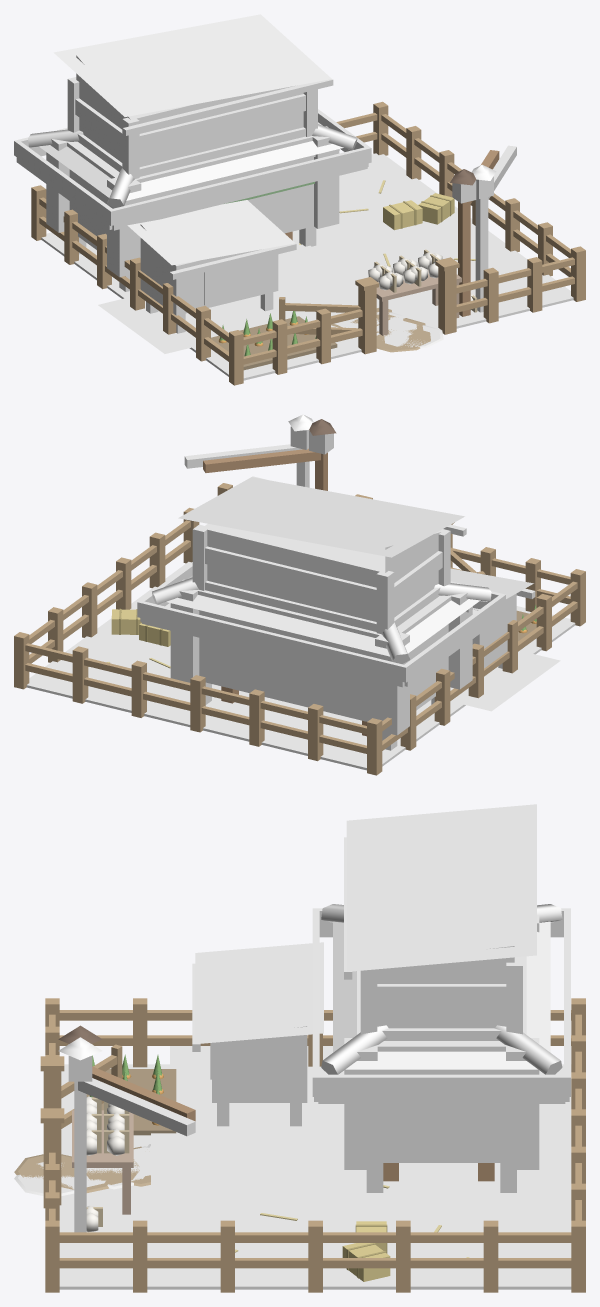
File: rabbit_hutch_1.glb
The picture shows the model from 3 angles, top to bottom: view 1: azimuth 30°, elevation 25°; view 2: azimuth 150°, elevation 25°; view 3: azimuth 270°, elevation 25°; orthographic projection. The views are drawn at different scales.
Visible parts, largest first — view 1: when_plan_true, body5, rabbit_hutch_1, body3, body2, body4; view 2: when_plan_true, body5; view 3: when_plan_true, body5, rabbit_hutch_1, body4, body3.
Part boxes in pixels (bbox=[...]): when_plan_true: bbox=[14, 14, 516, 353]; body5: bbox=[31, 101, 585, 385]; rabbit_hutch_1: bbox=[209, 250, 358, 332]; body3: bbox=[393, 255, 427, 286]; body2: bbox=[368, 261, 403, 292]; body4: bbox=[418, 249, 477, 312]; when_plan_true: bbox=[137, 414, 560, 750]; body5: bbox=[14, 419, 585, 775]; when_plan_true: bbox=[14, 804, 570, 1232]; body5: bbox=[14, 998, 585, 1292]; rabbit_hutch_1: bbox=[166, 1087, 366, 1176]; body4: bbox=[86, 1128, 129, 1231]; body3: bbox=[86, 1112, 129, 1130].
Bounding box in the file's own units: 1.8 × 0.9048 × 1.79.
